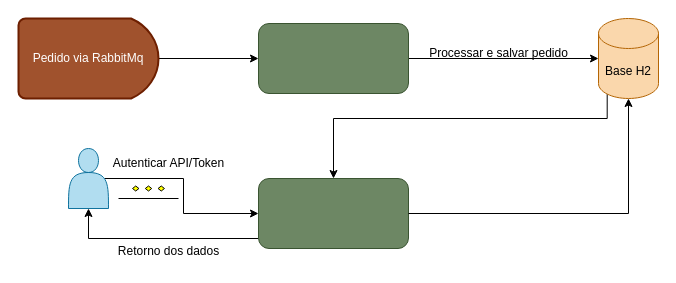
This 676x283 diagram has some shape labels left out. Here are the shapes that lost their labels. From the top down, the centre of each, then its label:
At point (333, 58): "Listener/Java/SpringBoot".
At point (333, 213): "API consultar pedidos".
